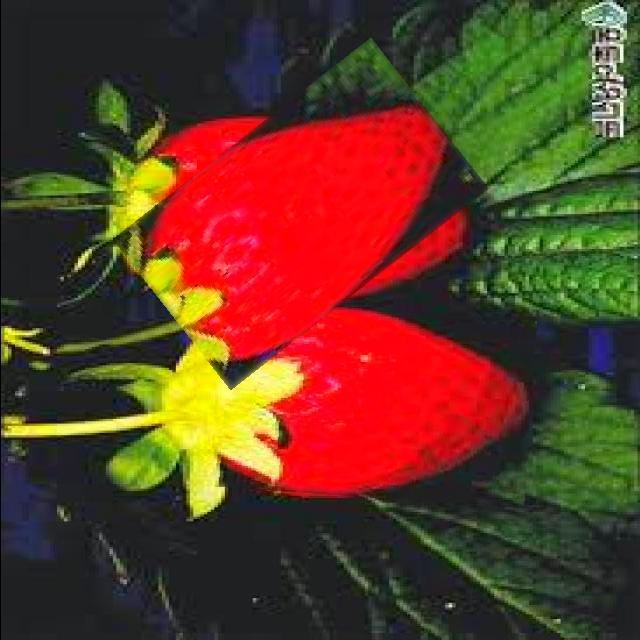strawberry: (124, 77, 476, 350), (211, 305, 533, 503)
